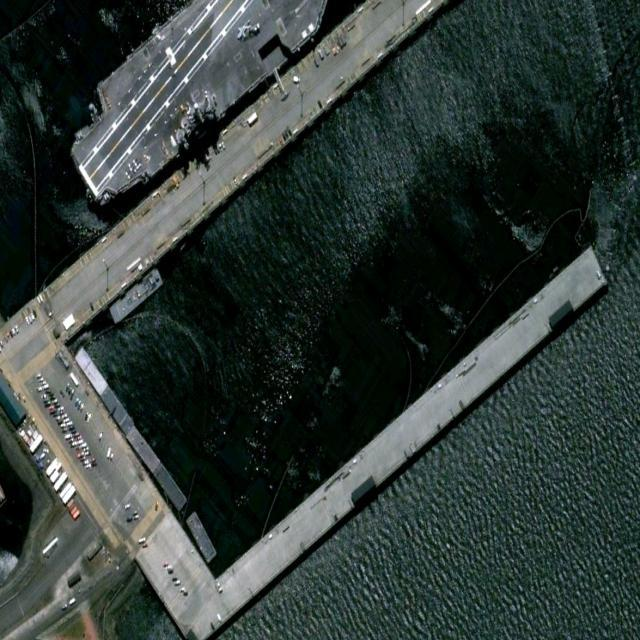Aircraft Carrier: (55, 1, 322, 237)
Other Warship: (107, 265, 165, 327)
